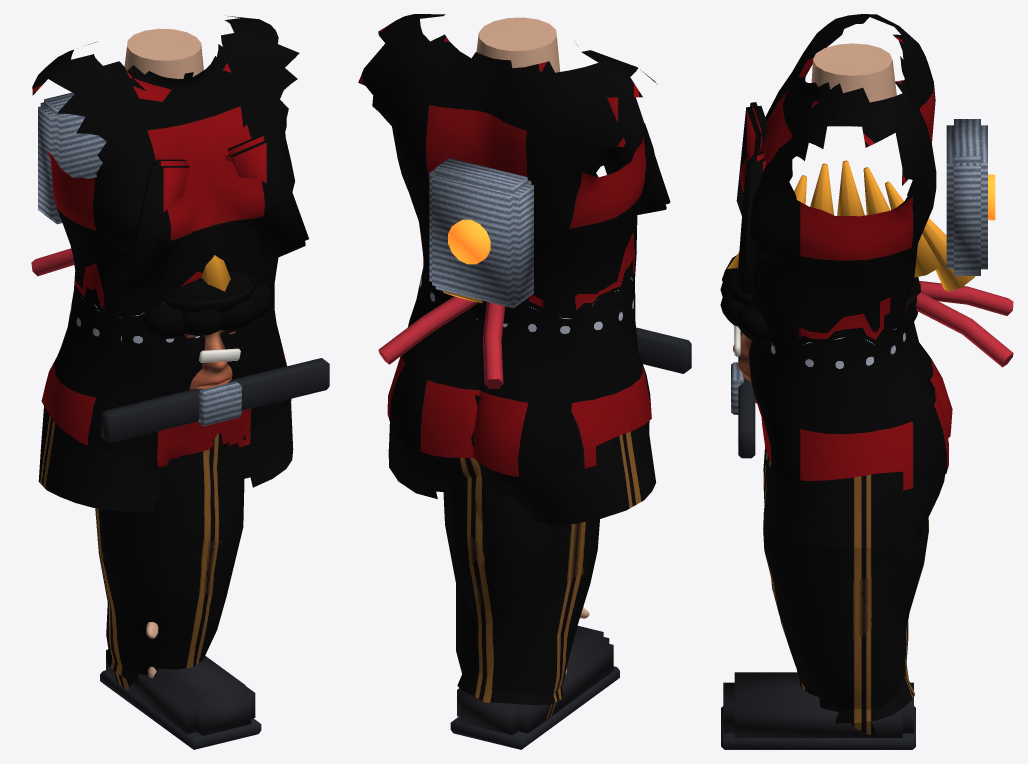
3 views of the same model, side by side, from view 1: azimuth 30°, elevation 25°; view 2: azimuth 150°, elevation 25°; view 3: azimuth 270°, elevation 25° (orthographic). The views are drawn at different scales.
Parts seen in each view (by area): view 1: Torso, ThighL, Head, ShinL, ThighR; view 2: Torso, ThighL, ShinL, ShinR, Head, ThighR; view 3: Torso, ThighR, ShinL, Head, ThighL.
Boxes of the visible parts, x1,y1,x2,y2 form: Torso: (32,15,329,511); ThighL: (95,451,218,690); Head: (31,248,271,389); ShinL: (100,649,261,749); ThighR: (106,433,244,685); Torso: (358,14,691,524); ThighL: (457,466,599,719); ShinL: (446,478,619,749); ShinR: (471,476,551,623); Head: (378,291,528,389); ThighR: (443,470,563,705); Torso: (731,14,995,547); ThighR: (763,457,911,734); ShinL: (721,517,928,749); Head: (720,160,1013,403); ThighL: (763,447,915,723).
Size of the model in its own units: 0.4281 by 1.05 by 0.4119.
Materials: 12 (5 with a texture image).
